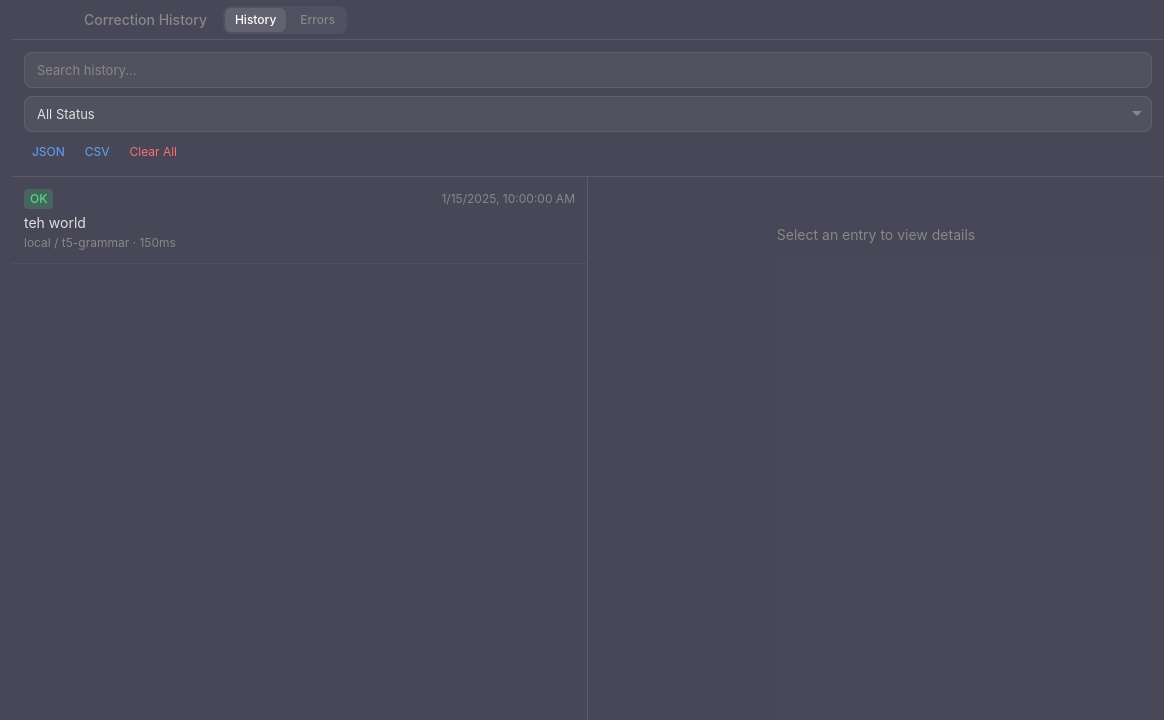
History › clicking entry shows original + corrected text
Click the entry button
Click the text "teh world".
click(55, 222)  # box [24,214,86,231]
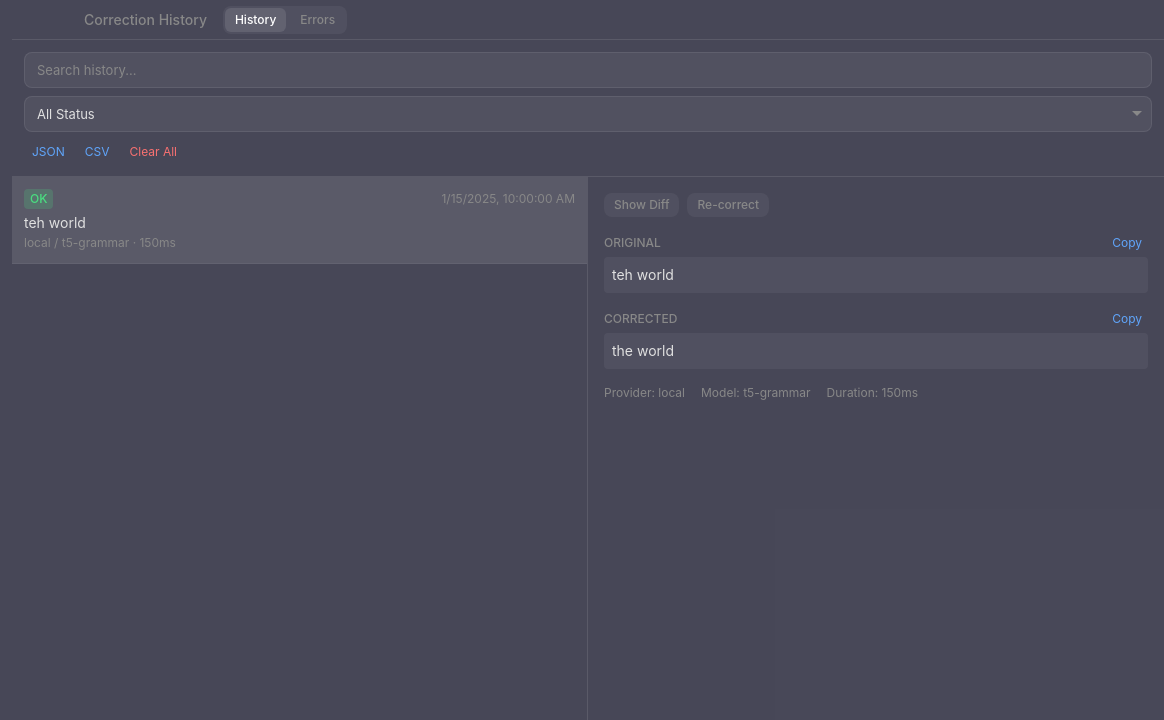
Check: the text "the world" is shown, box [604,333,1148,369]
